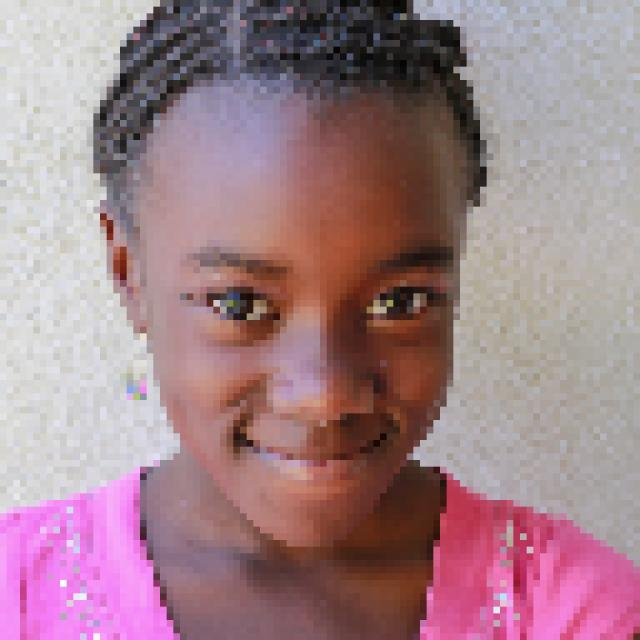happy: (132, 68, 474, 576)
